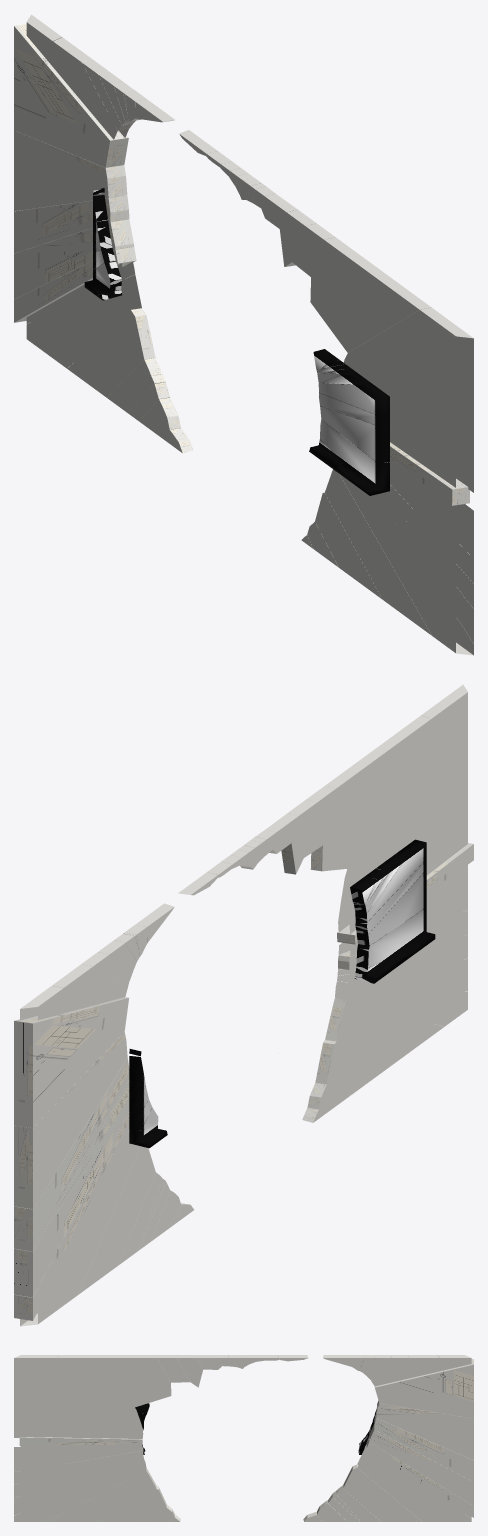
File: brokenwall.fbx
3 views of the same model, one above another, from view 1: azimuth 30°, elevation 25°; view 2: azimuth 150°, elevation 25°; view 3: azimuth 270°, elevation 25° (orthographic). The views are drawn at different scales.
Visible parts, largest first — view 1: Room.002_cell.073, Room.002_cell.021, Room.002_cell.081, Room.002_cell.018, Room.002_cell.050, Room.002_cell.009, Room.002_cell.006, Room.002_cell.078, Room.002_cell.086, Room.002_cell.059, Room.002_cell.072, Room.002_cell.089 (+21 smaller); view 2: Room.002_cell.073, Room.002_cell.021, Room.002_cell.081, Room.002_cell.018, Room.002_cell.050, Room.002_cell.078, Room.002_cell.006, Room.002_cell.059, Room.002_cell.086, Room.002_cell.009, Room.002_cell.083, Room.002_cell.072 (+20 smaller); view 3: Room.002_cell.073, Room.002_cell.081, Room.002_cell.021, Room.002_cell.018, Room.002_cell.050, Room.002_cell.078, Room.002_cell.006, Room.002_cell.024, Room.002_cell.009, Room.002_cell.086, Room.002_cell.059, Room.002_cell.033 (+20 smaller).
Part boxes in pixels (x1=…): Room.002_cell.073: x1=343, y1=307, x2=473, y2=492; Room.002_cell.021: x1=14, y1=24, x2=128, y2=167; Room.002_cell.081: x1=310, y1=237, x2=431, y2=352; Room.002_cell.018: x1=14, y1=130, x2=127, y2=211; Room.002_cell.050: x1=26, y1=274, x2=141, y2=368; Room.002_cell.009: x1=67, y1=308, x2=155, y2=397; Room.002_cell.006: x1=324, y1=469, x2=431, y2=635; Room.002_cell.078: x1=14, y1=219, x2=134, y2=299; Room.002_cell.086: x1=339, y1=474, x2=473, y2=655; Room.002_cell.059: x1=14, y1=195, x2=129, y2=253; Room.002_cell.072: x1=26, y1=14, x2=128, y2=139; Room.002_cell.089: x1=390, y1=459, x2=455, y2=553; Room.002_cell.073: x1=338, y1=684, x2=467, y2=934; Room.002_cell.021: x1=14, y1=997, x2=128, y2=1127; Room.002_cell.081: x1=310, y1=715, x2=431, y2=871; Room.002_cell.018: x1=14, y1=1032, x2=127, y2=1209; Room.002_cell.050: x1=20, y1=1131, x2=140, y2=1326; Room.002_cell.078: x1=14, y1=1080, x2=129, y2=1297; Room.002_cell.006: x1=325, y1=998, x2=443, y2=1063; Room.002_cell.059: x1=14, y1=1058, x2=129, y2=1251; Room.002_cell.086: x1=335, y1=981, x2=467, y2=1026; Room.002_cell.009: x1=78, y1=1146, x2=155, y2=1294; Room.002_cell.083: x1=315, y1=1040, x2=393, y2=1095; Room.002_cell.072: x1=20, y1=978, x2=128, y2=1020; Room.002_cell.073: x1=14, y1=1355, x2=143, y2=1438; Room.002_cell.081: x1=58, y1=1355, x2=171, y2=1407; Room.002_cell.021: x1=374, y1=1359, x2=473, y2=1418; Room.002_cell.018: x1=376, y1=1400, x2=473, y2=1460; Room.002_cell.050: x1=357, y1=1449, x2=471, y2=1521; Room.002_cell.078: x1=369, y1=1424, x2=473, y2=1505; Room.002_cell.006: x1=46, y1=1468, x2=156, y2=1521; Room.002_cell.024: x1=14, y1=1445, x2=142, y2=1471; Room.002_cell.009: x1=343, y1=1464, x2=421, y2=1521; Room.002_cell.086: x1=14, y1=1460, x2=146, y2=1521; Room.002_cell.059: x1=374, y1=1413, x2=473, y2=1481; Room.002_cell.033: x1=14, y1=1461, x2=144, y2=1515.
Bounding box in the file's own units: 55.25 × 400 × 1017.
2 materials, 2 textured.
